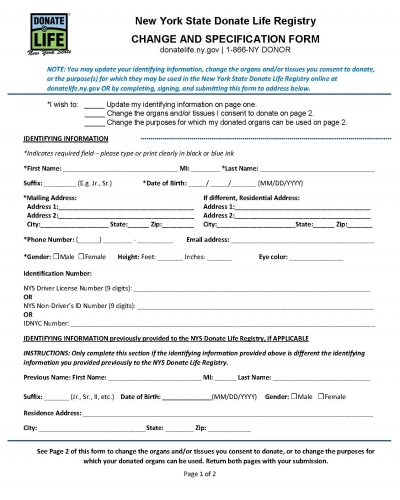checkbox: (76, 251, 86, 261), (316, 391, 325, 400), (52, 250, 60, 260), (289, 392, 298, 400)
textline: (69, 314, 376, 330), (132, 275, 373, 295), (134, 296, 375, 312), (82, 407, 375, 419), (258, 161, 377, 175), (230, 234, 376, 245), (56, 201, 195, 212), (57, 209, 196, 220), (234, 200, 373, 211), (234, 209, 373, 220), (62, 161, 178, 174), (271, 369, 370, 384), (36, 422, 147, 434), (105, 370, 202, 383), (76, 233, 177, 244), (185, 177, 257, 188), (287, 250, 344, 263), (215, 221, 296, 230), (39, 221, 110, 230), (161, 391, 214, 403), (206, 423, 253, 434), (189, 161, 221, 174), (42, 177, 76, 189), (163, 423, 194, 435), (138, 235, 178, 244), (43, 391, 71, 403), (102, 235, 132, 246), (213, 370, 238, 383), (156, 251, 183, 263), (207, 251, 234, 263), (231, 177, 257, 189), (83, 98, 105, 111), (161, 222, 196, 230), (83, 118, 107, 129), (346, 221, 373, 230), (125, 221, 151, 230), (312, 220, 335, 230), (83, 110, 106, 119), (210, 177, 228, 188), (80, 235, 98, 245), (189, 178, 206, 188)
